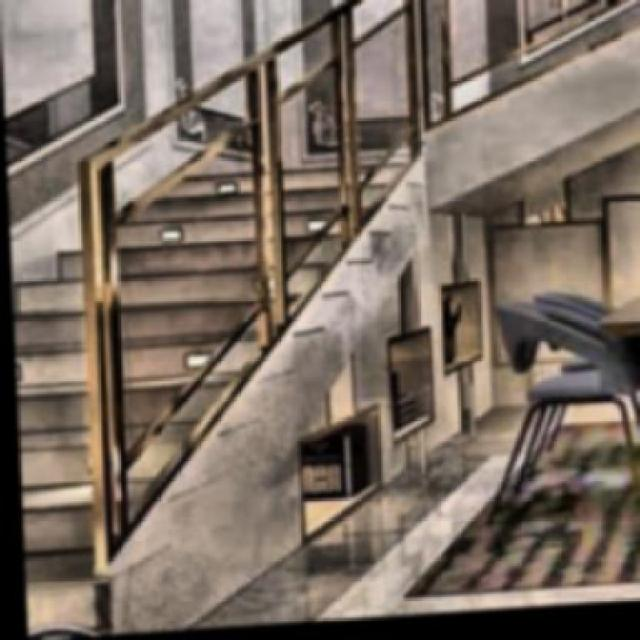stair: (6, 142, 451, 638)
